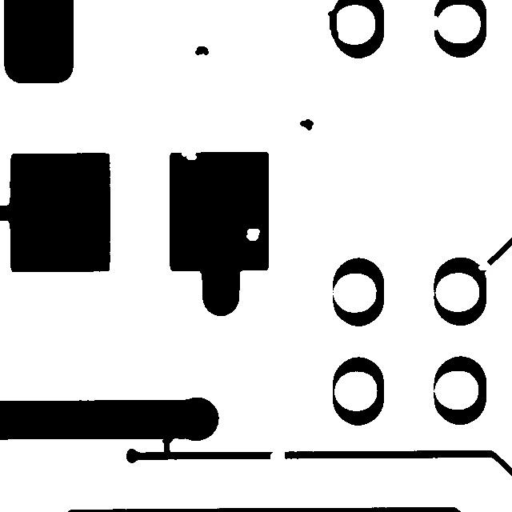copper: (292, 111, 321, 138), (187, 38, 216, 62)
mousebite: (174, 142, 204, 167)
open: (262, 441, 292, 470), (470, 253, 499, 278), (424, 8, 447, 38)
pin-hole: (238, 221, 267, 248)
short: (320, 1, 346, 47), (154, 429, 180, 462)
